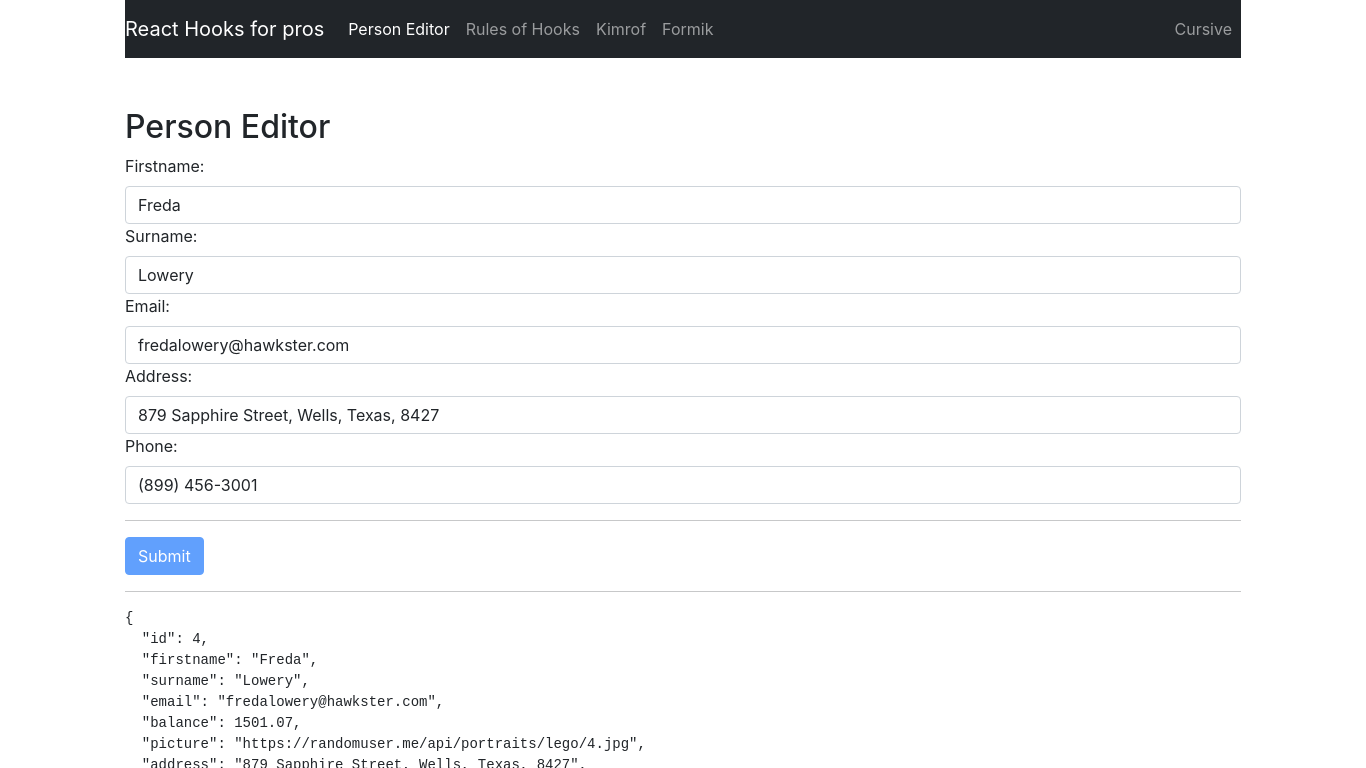
The Person Editor › Can rename to Ford Prefect with side effect
This screenshot has width=1366, height=768.
Expected: the text "\"address\": \"879 Sapphire Street, Wells, Texas, 8427\"," is shown, [125, 610, 646, 767]
Replace the text in the field below "Firstname:" with "Ford" at (683, 205), box [125, 186, 1241, 224]
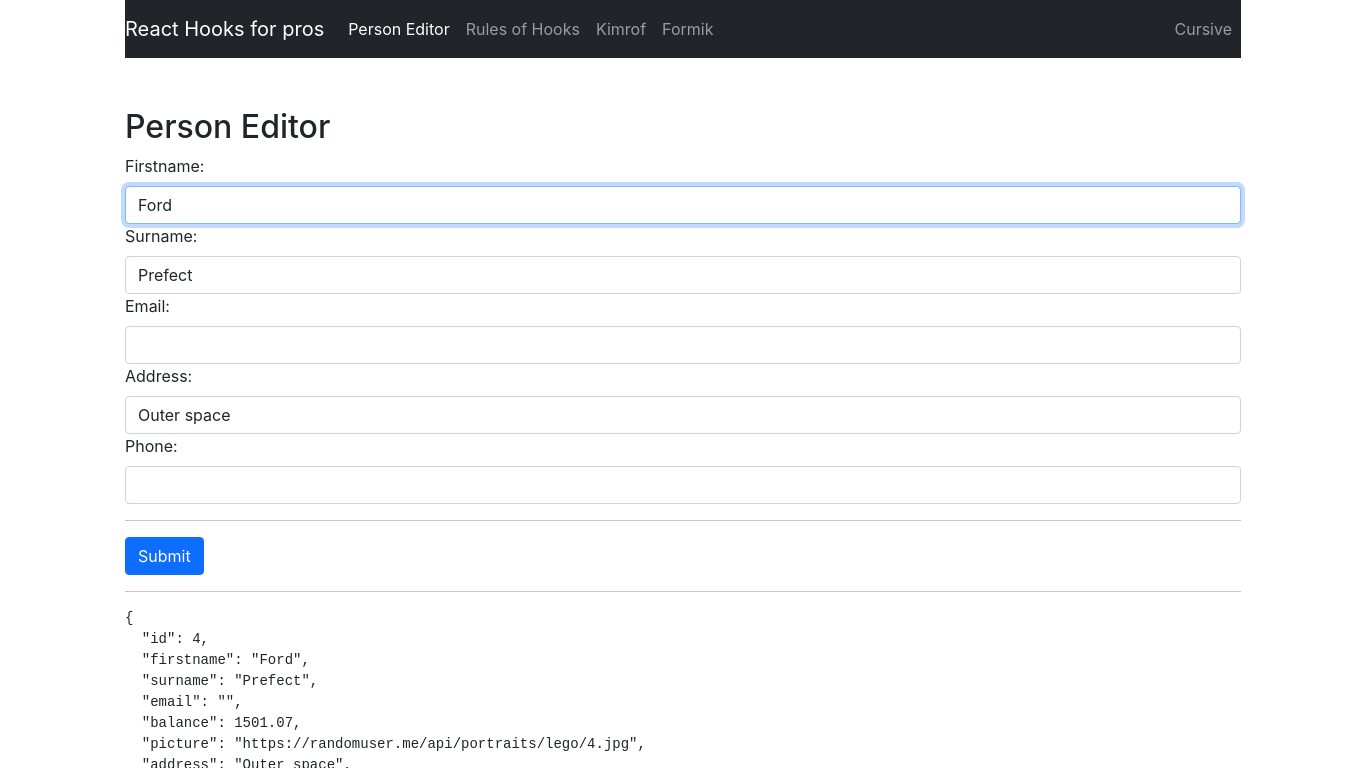
Expected: the text "\"address\": \"Outer space\"," is shown, [125, 610, 646, 767]
